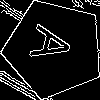A: (29, 24, 83, 68)
